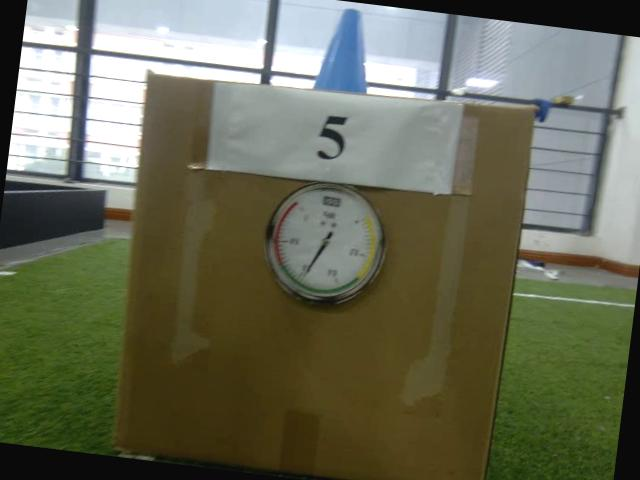5: (314, 111, 349, 164)
Dashboard: (256, 174, 397, 316)
blue_barrel: (309, 3, 378, 97)
ssi: (322, 194, 342, 209)
